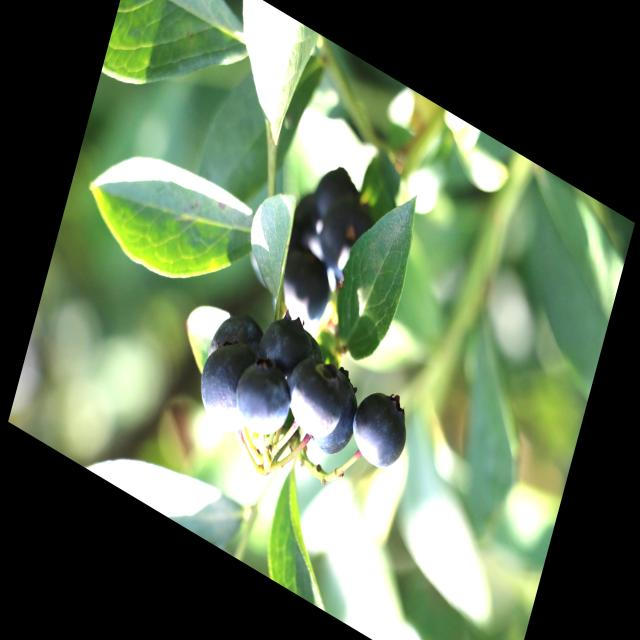blueberry: (194, 338, 260, 439), (346, 379, 413, 478), (284, 350, 350, 449), (316, 191, 380, 291), (272, 245, 335, 338), (311, 366, 367, 464), (232, 356, 293, 441), (256, 308, 314, 391), (281, 190, 334, 270)
